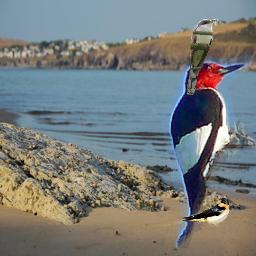Cuckoo: (187, 19, 218, 95)
Swallow: (172, 197, 230, 227)
Woodpecker: (153, 49, 256, 248)
